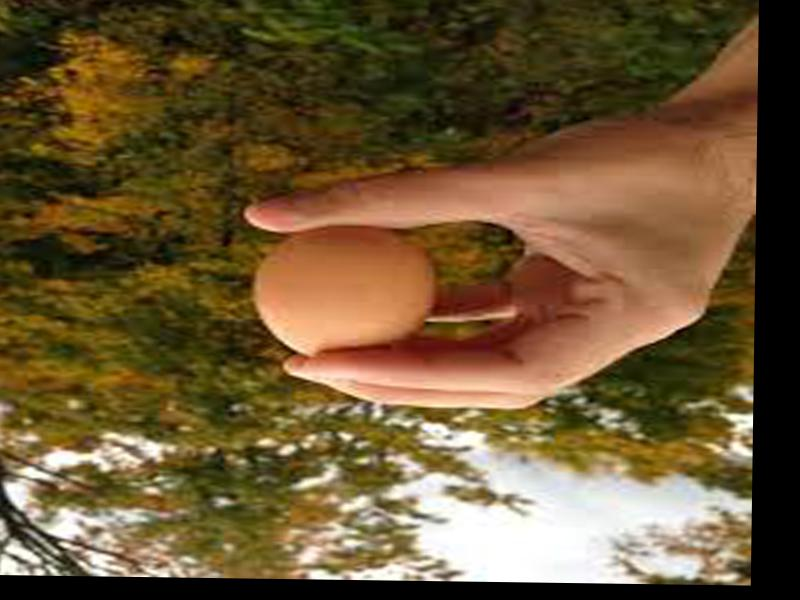Eggs: (254, 223, 433, 360)
